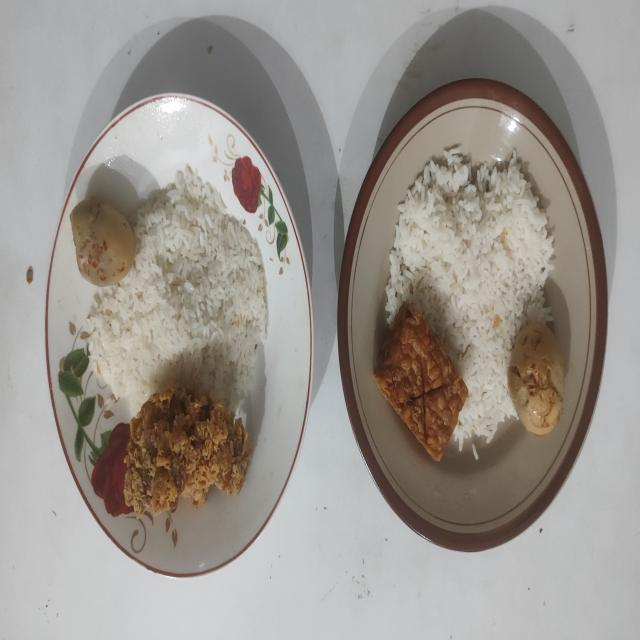nasi_putih: (385, 146, 554, 450), (86, 165, 268, 412)
tempe_goreng: (374, 304, 468, 461)
